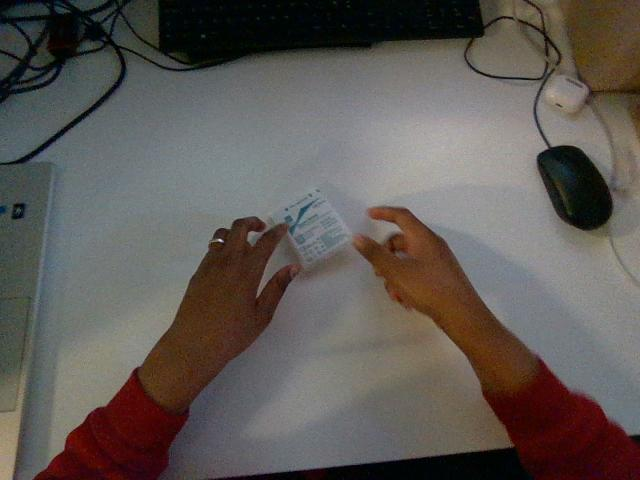gauze: (272, 189, 350, 269)
